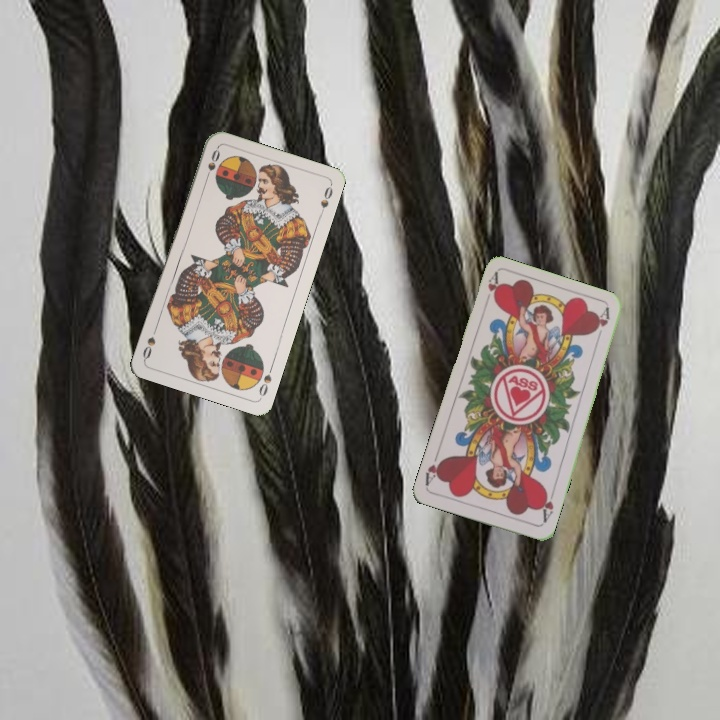HA: (537, 486, 557, 525), (484, 269, 503, 305)
SO: (201, 145, 223, 184), (255, 361, 276, 399)
